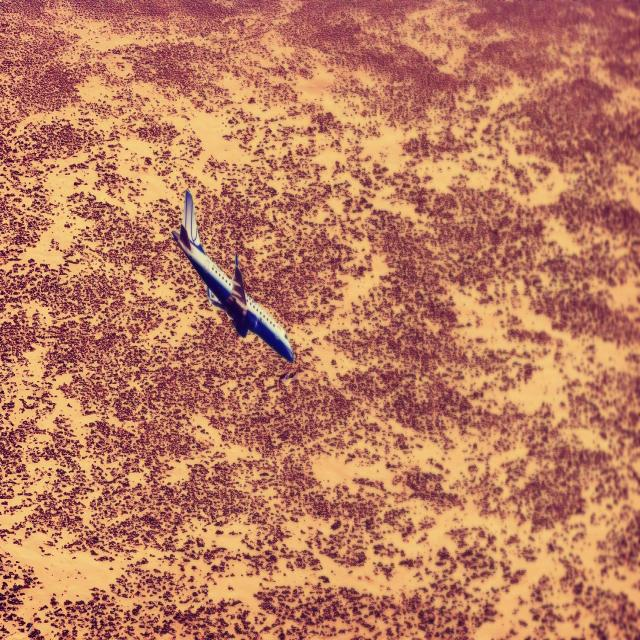airplane: (171, 188, 294, 364)
